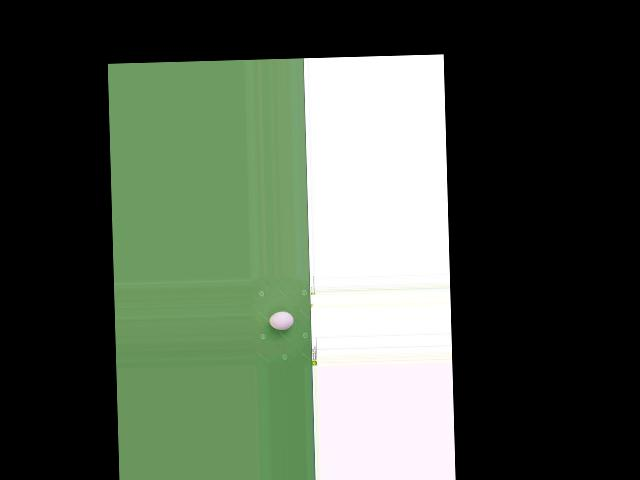egg: (269, 311, 293, 330)
